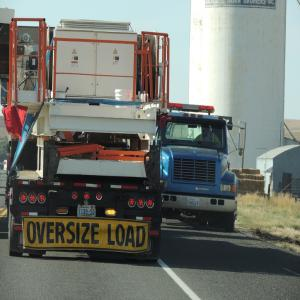Vehicle-registration-plate: (78, 206, 97, 219), (189, 198, 201, 207)
